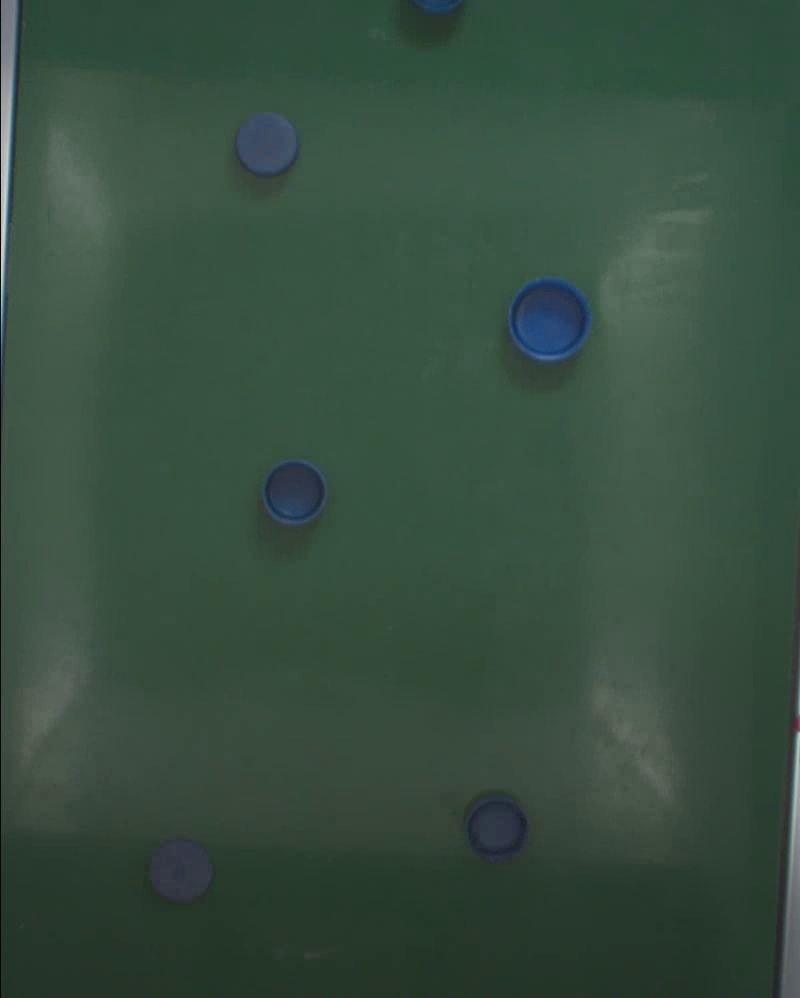Dark Blue: (507, 276, 591, 362), (464, 792, 529, 863), (262, 459, 327, 527), (148, 838, 213, 904), (235, 112, 300, 176)
